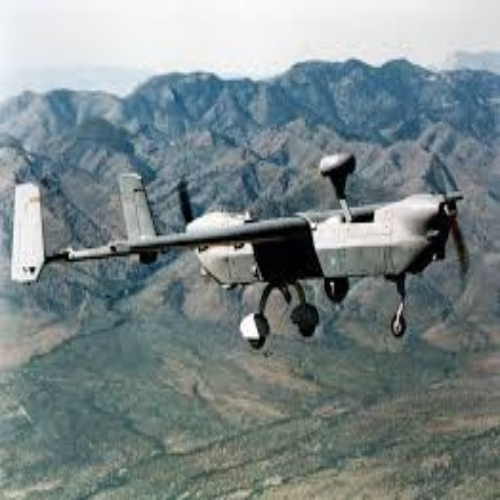uav7: (11, 155, 462, 349)
